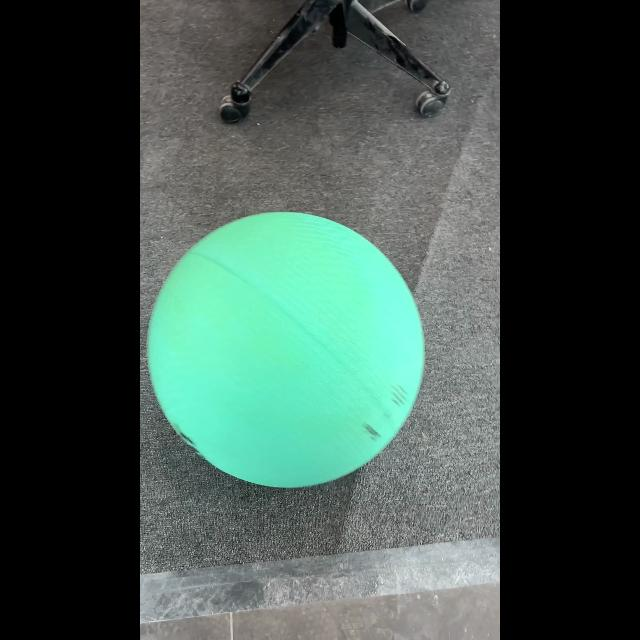ALGAE: (147, 210, 426, 490)
